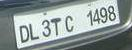1: (85, 9, 94, 26)
3: (41, 19, 52, 37)
4: (93, 8, 100, 25)
8: (108, 4, 117, 21)
9: (99, 6, 108, 23)
C: (64, 16, 75, 32)
D: (17, 23, 30, 42)
L: (28, 23, 40, 41)
T: (51, 18, 61, 36)
